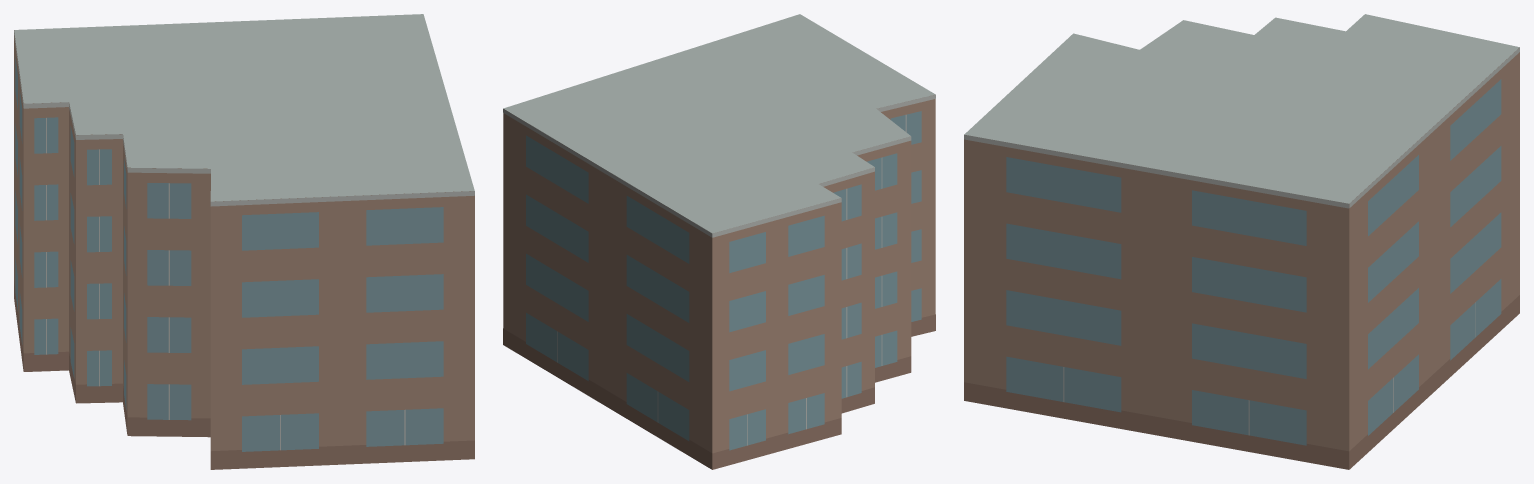
Rendered from survey-upis-32678954.glb.
3 views of the same model, side by side, from view 1: azimuth 30°, elevation 25°; view 2: azimuth 150°, elevation 25°; view 3: azimuth 270°, elevation 25° (orthographic). The views are drawn at different scales.
Visible parts, largest first — view 1: survey-upis-32678954.tmp; view 2: survey-upis-32678954.tmp; view 3: survey-upis-32678954.tmp.
Boxes of the visible parts, x1=… form: survey-upis-32678954.tmp: x1=14, y1=14, x2=474, y2=469; survey-upis-32678954.tmp: x1=503, y1=14, x2=935, y2=469; survey-upis-32678954.tmp: x1=964, y1=14, x2=1519, y2=469.
Size of the model in its own units: 20.5 by 13.4 by 25.37.
